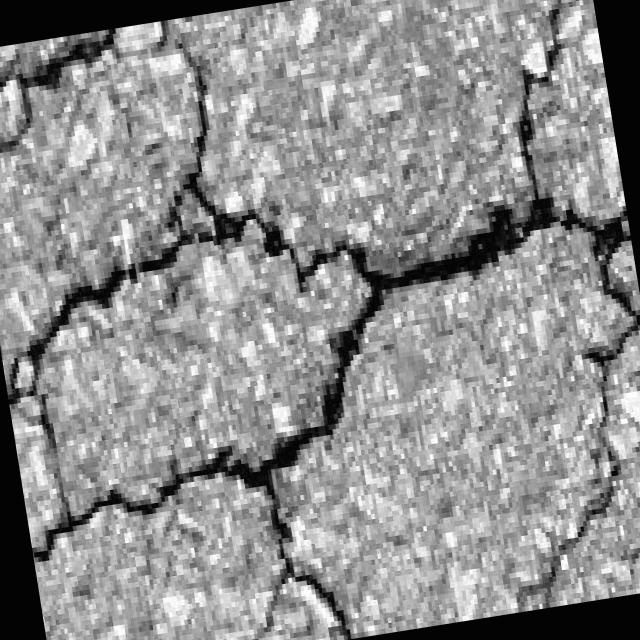crack: (0, 154, 640, 420), (13, 371, 370, 564), (476, 322, 640, 611), (0, 22, 182, 161), (492, 0, 598, 201), (134, 18, 226, 222), (227, 516, 350, 640)
